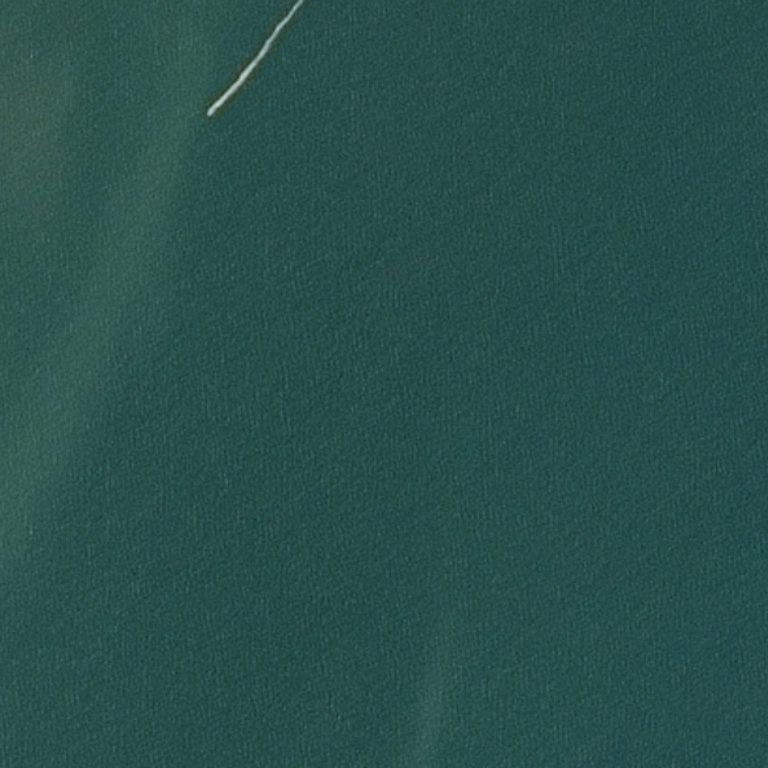ship: (208, 110, 213, 117)
